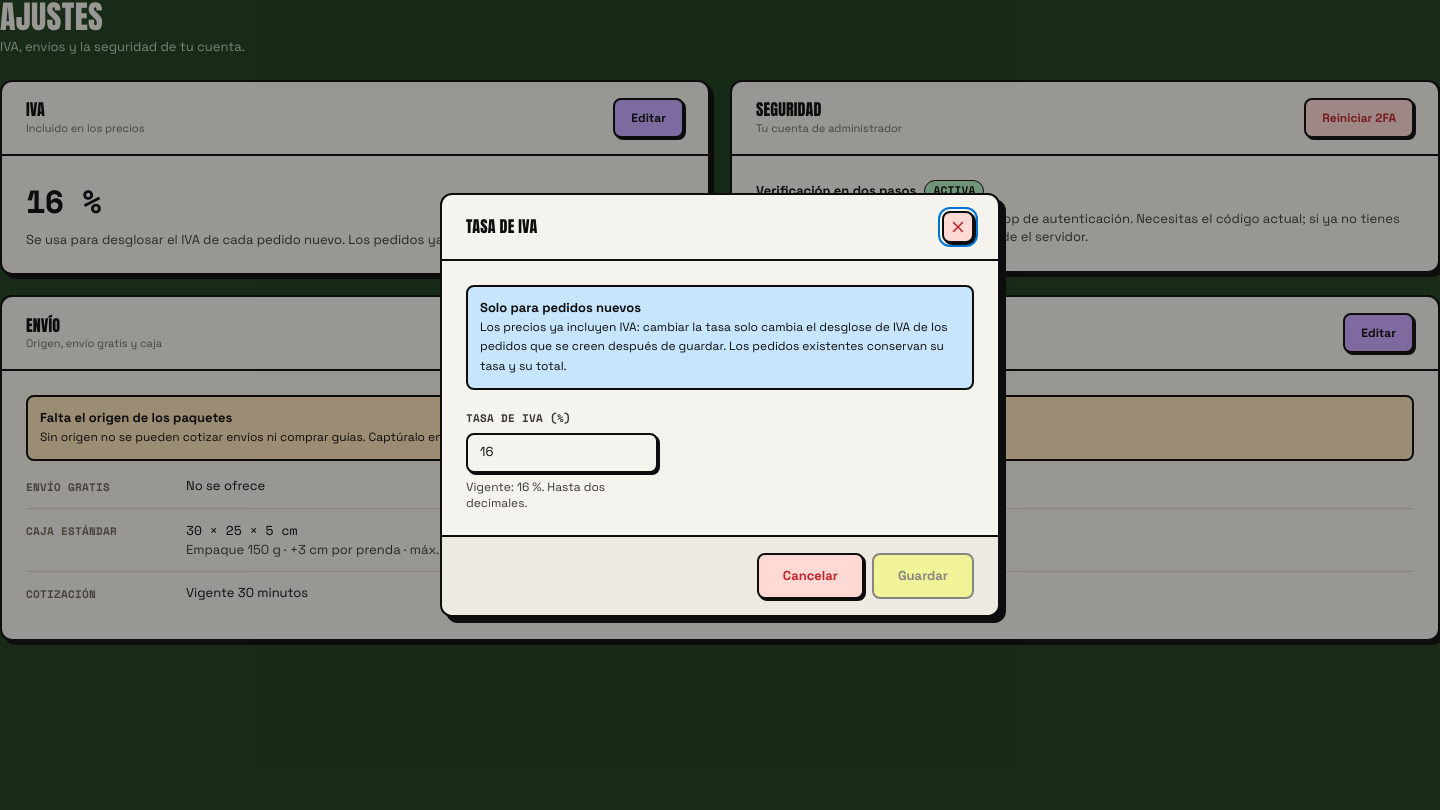
SettingsPage › una tasa inválida queda sobre el campo y no llega al API
The width and height of the screenshot is (1440, 810).
Replace the text in the field labelled "Tasa de IVA (%)" with "120" at (562,452), box [480,443,644,462]
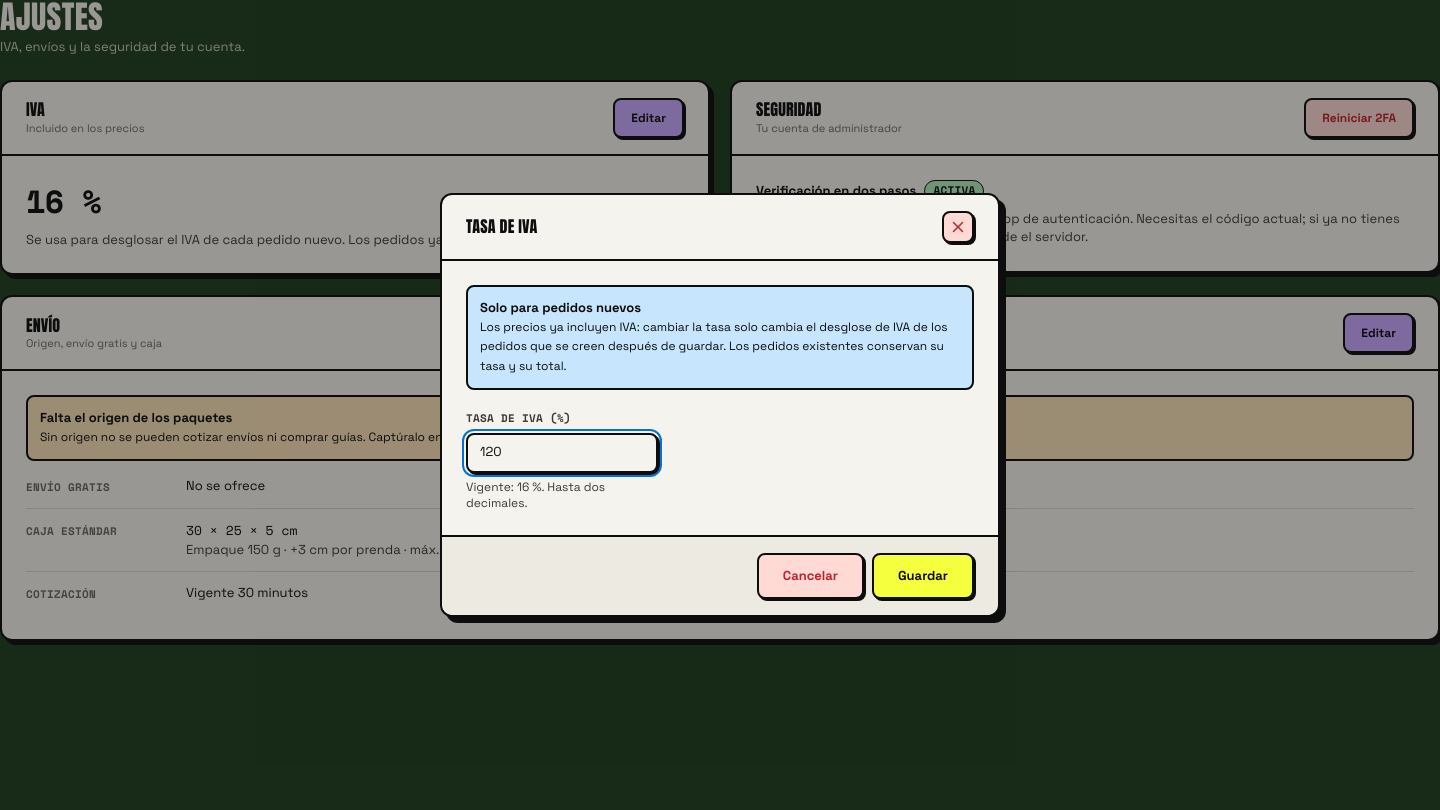
Click the button "Guardar" at (923,576), box [872,552,974,599]
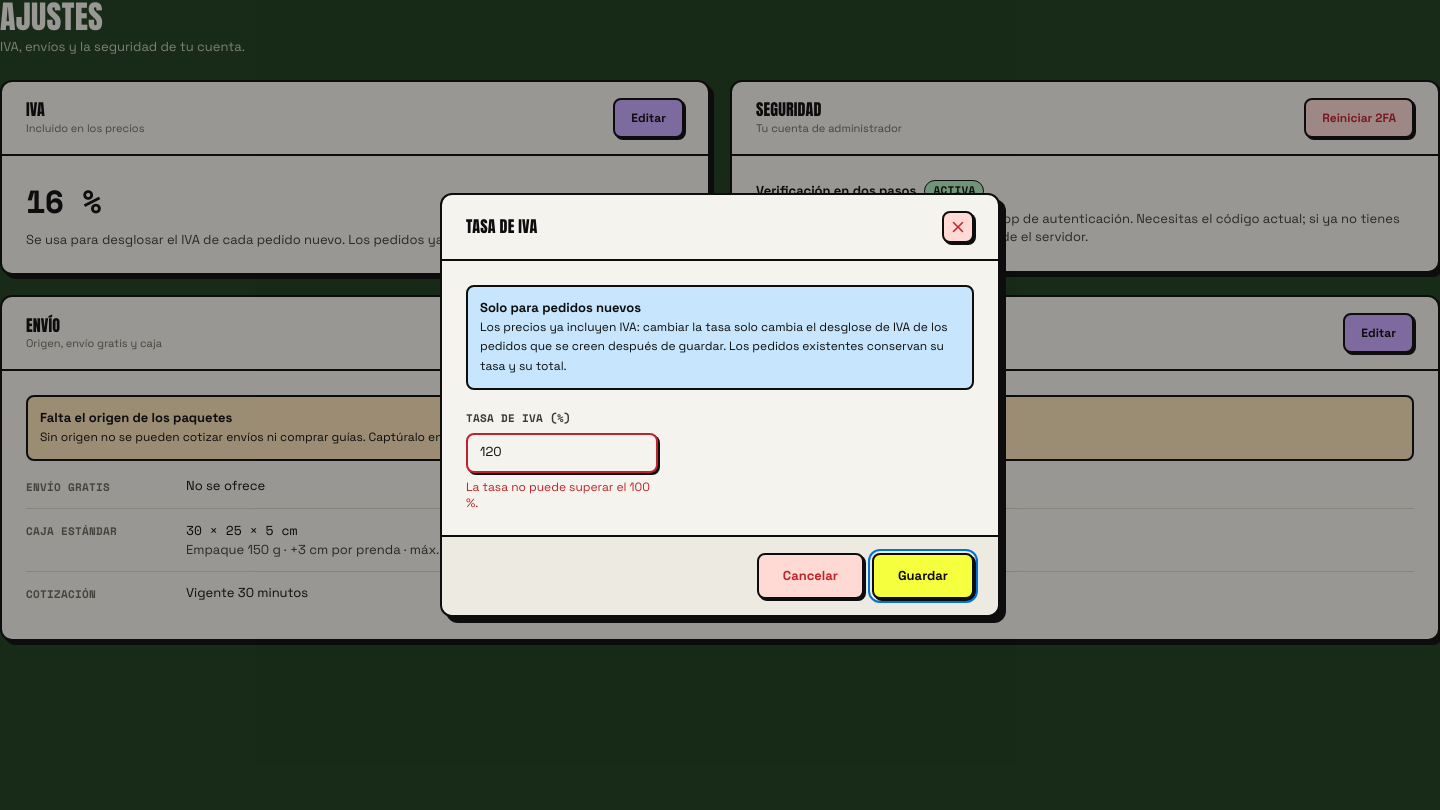
Check: the text "La tasa no puede superar el 100 %." is shown, box [466,478,658,510]
